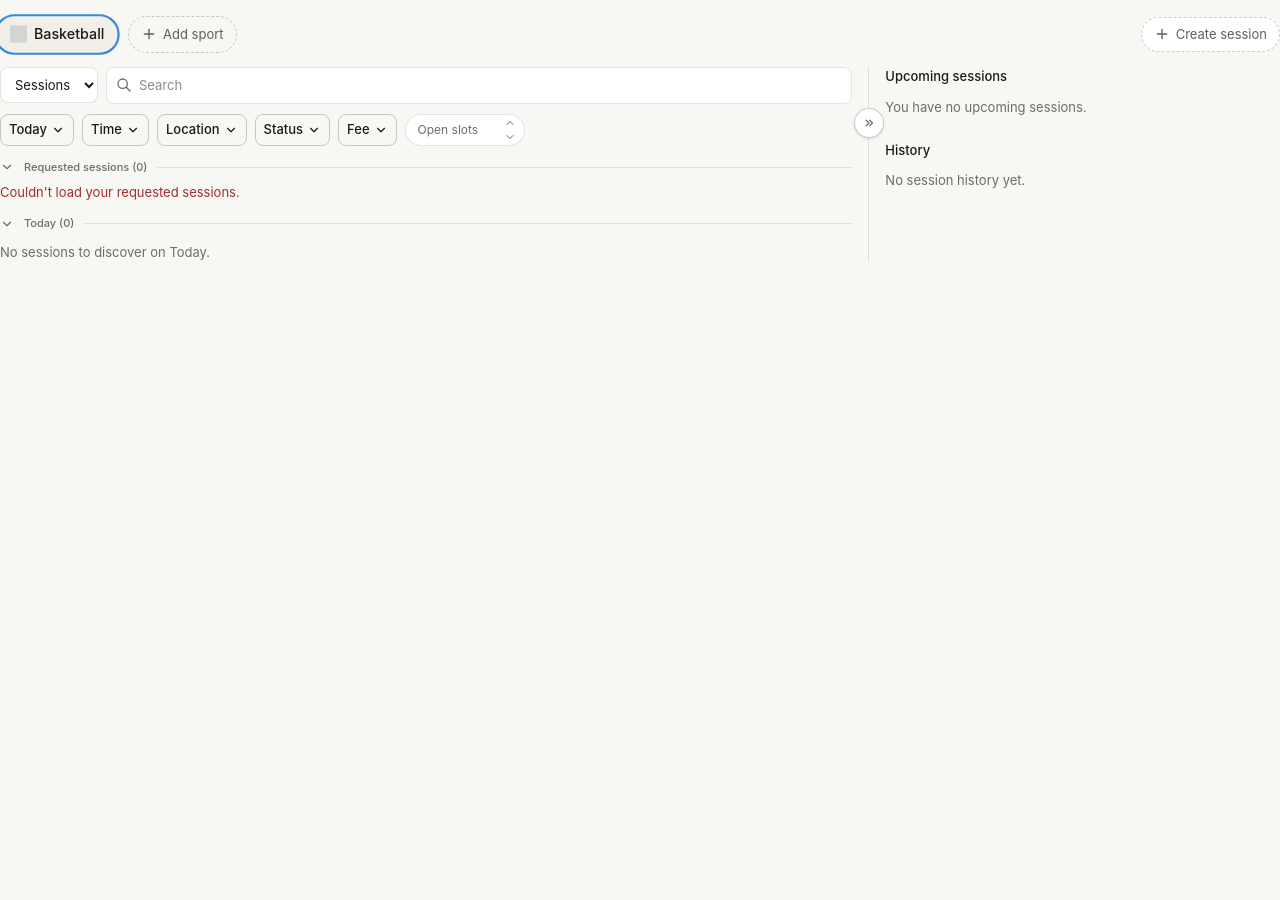
Scenario: MatchesPage › opens the create session dialog from the "Create session" pill
Expected: the text "No sessions to discover on Today." is shown, [0,244,210,260]
Click the button "Create session": click(1210, 34) [1141,17,1279,52]
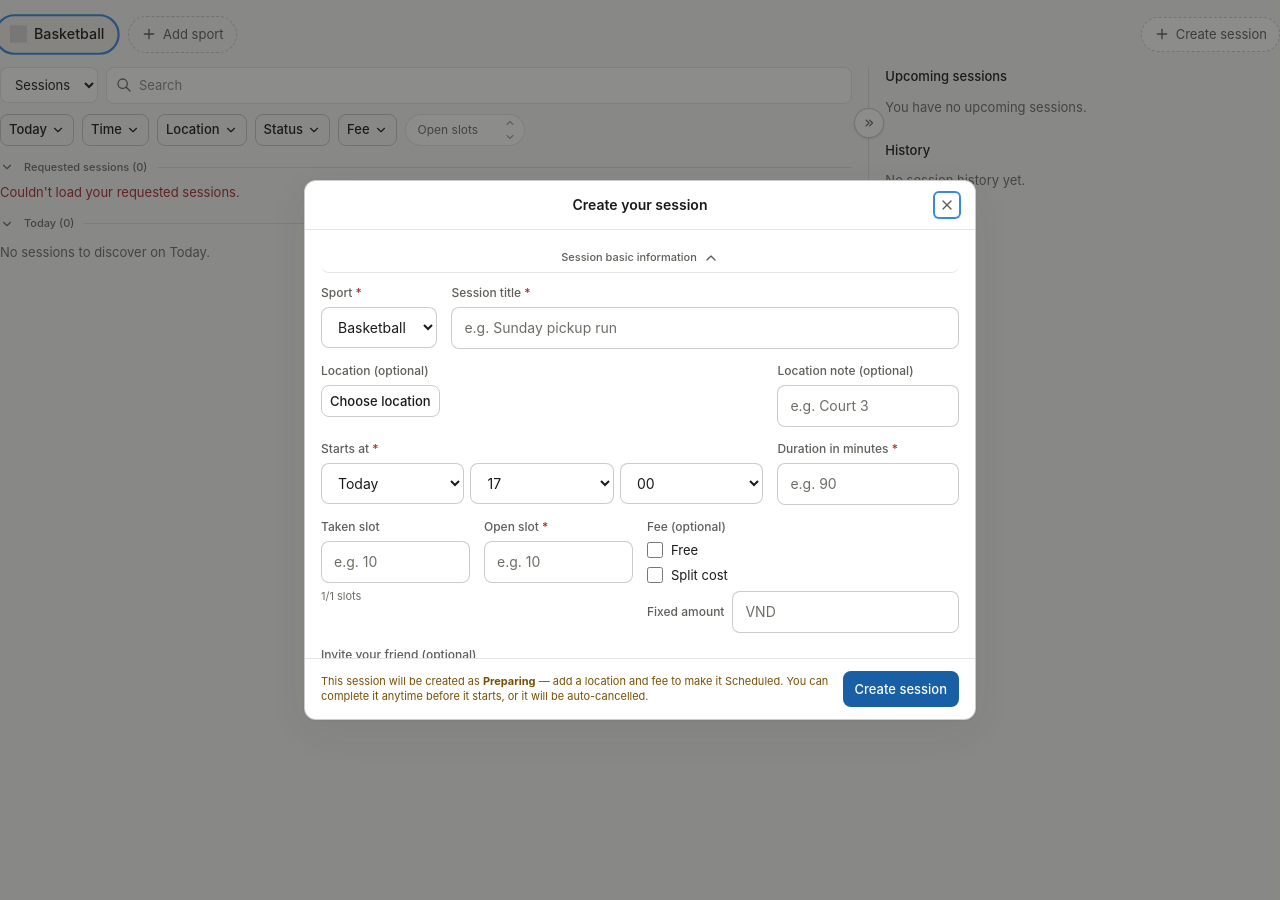
Expected: the heading "Create your session" is shown, [572,195,707,215]
